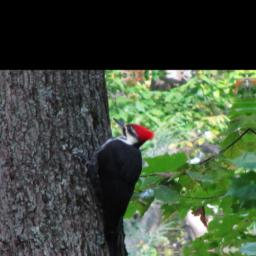Woodpecker: (71, 115, 163, 256)
